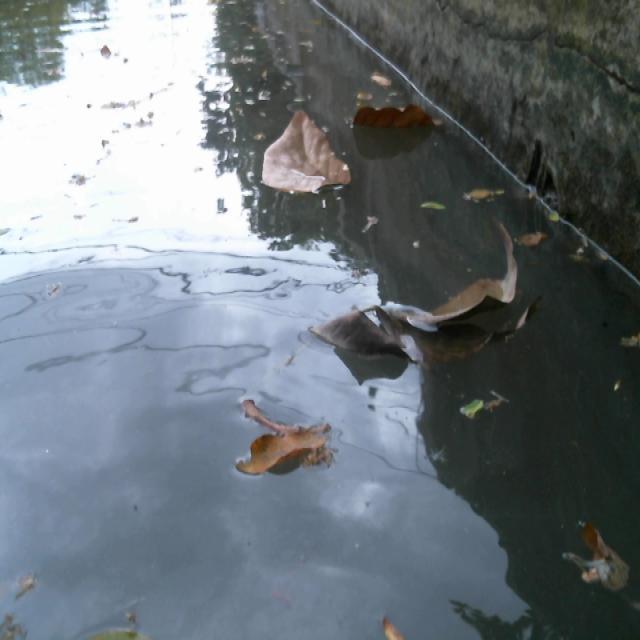Big-leaf: (312, 218, 527, 374), (249, 108, 364, 203), (240, 399, 338, 488), (347, 91, 448, 142)
Small-leaf: (566, 515, 636, 605), (458, 391, 525, 427), (74, 616, 148, 640), (460, 182, 516, 205), (512, 228, 554, 257), (368, 614, 407, 640), (360, 65, 397, 89), (422, 187, 449, 209), (620, 322, 640, 350)
